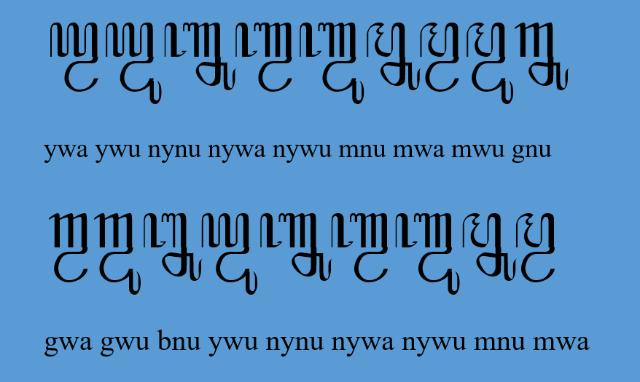bnu: (144, 213, 202, 282)
gw: (48, 213, 88, 283)
gwu: (94, 213, 140, 295)
mnu: (367, 21, 421, 90), (462, 214, 516, 282)
mw: (418, 21, 459, 92), (515, 213, 555, 284)
mwu: (466, 22, 514, 106), (514, 22, 570, 92)
nynu: (164, 21, 236, 90), (260, 213, 332, 282)
nyw: (331, 213, 389, 284), (235, 22, 293, 92)
nywu: (298, 22, 364, 106), (394, 212, 460, 296)
yw: (50, 21, 99, 92)
ywu: (201, 213, 259, 296), (104, 22, 162, 104)
